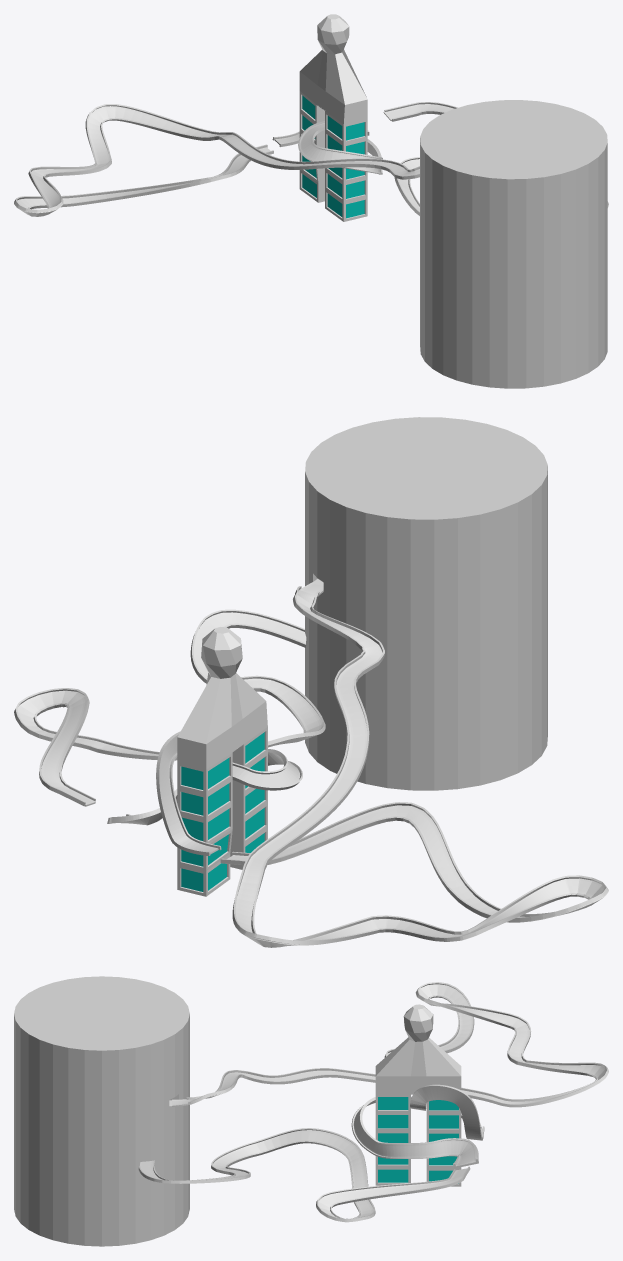
File: track 13.fbx
3 views of the same model, one above another, from view 1: azimuth 30°, elevation 25°; view 2: azimuth 150°, elevation 25°; view 3: azimuth 270°, elevation 25° (orthographic). The views are drawn at different scales.
Parts seen in each view (by area): view 1: Circle.001, Cube.003, Track 2, Curb 4, Curb 3, AG Track, Track 1; view 2: Circle.001, Cube.003, Track 2, Track 1, Curb 4, Curb 3, AG Track, Curb 2, Curb 1, AG Curb 1, AG Curb 2; view 3: Circle.001, Cube.003, Track 2, Track 1, AG Track, Curb 3, Curb 4, Curb 1, Curb 2, AG Curb 1, AG Curb 2.
Boxes of the visible parts, x1,y1,x2,y2 form: Circle.001: [420, 100, 607, 388]; Cube.003: [299, 14, 367, 221]; Track 2: [14, 106, 419, 216]; Curb 4: [14, 117, 419, 212]; Curb 3: [28, 104, 419, 209]; AG Track: [274, 123, 380, 172]; Track 1: [383, 104, 454, 211]; Circle.001: [305, 417, 547, 790]; Cube.003: [177, 627, 267, 896]; Track 2: [222, 583, 608, 947]; Track 1: [17, 612, 322, 806]; Curb 4: [220, 591, 608, 940]; Curb 3: [232, 586, 590, 944]; AG Track: [111, 737, 300, 854]; Curb 2: [14, 623, 325, 801]; Curb 1: [33, 609, 306, 806]; AG Curb 1: [107, 731, 287, 855]; AG Curb 2: [126, 753, 302, 850]; Circle.001: [14, 976, 189, 1246]; Cube.003: [375, 1004, 461, 1186]; Track 2: [172, 984, 605, 1106]; Track 1: [140, 1130, 467, 1217]; AG Track: [353, 1086, 482, 1167]; Curb 3: [188, 995, 608, 1121]; Curb 4: [186, 982, 597, 1128]; Curb 1: [138, 1140, 470, 1219]; Curb 2: [153, 1128, 455, 1222]; AG Curb 1: [359, 1084, 484, 1163]; AG Curb 2: [351, 1098, 467, 1168].
Size of the model in its own units: 76055 by 30540 by 83423.
